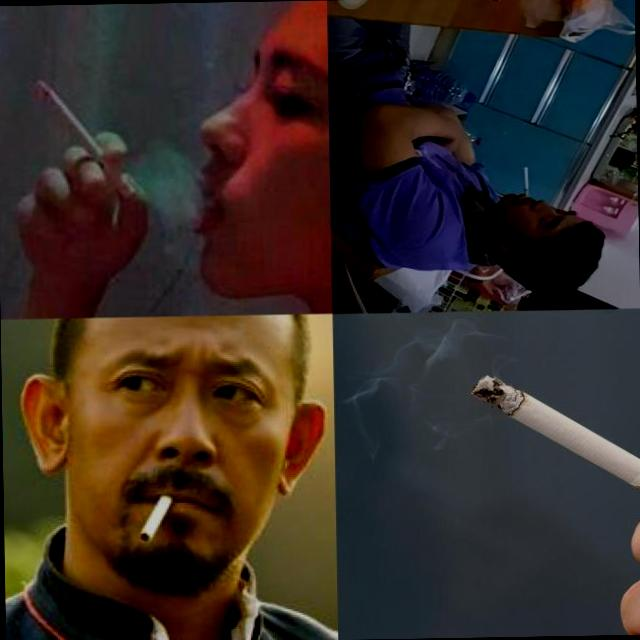cigarette: (466, 371, 640, 551), (31, 76, 136, 200), (126, 483, 172, 542), (523, 166, 529, 196)
